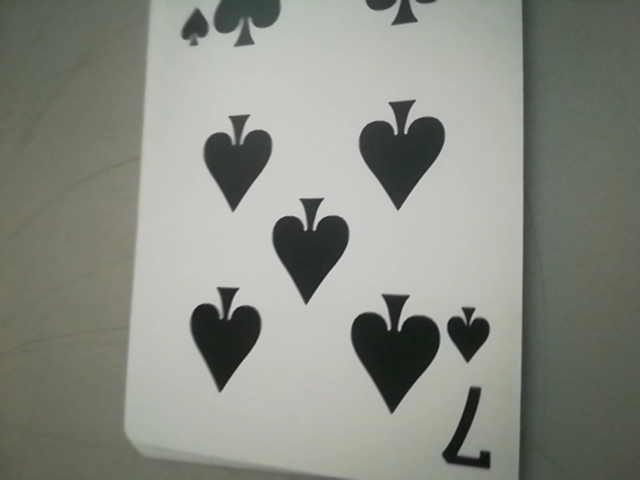ht 7: (439, 303, 500, 470)
